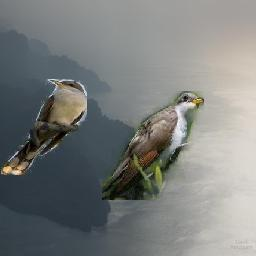Cuckoo: (102, 92, 204, 201), (1, 79, 87, 175)
